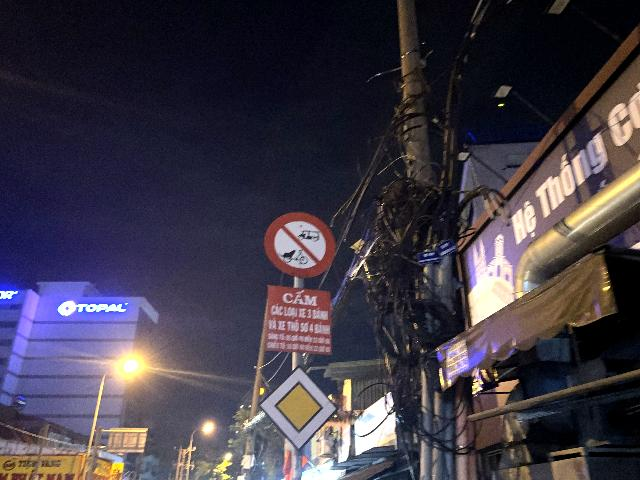bat-dau-duong-uu-tien: (258, 364, 339, 452)
cam-xe-3-banh-xe-tho-so-4-banh: (263, 212, 338, 277)
